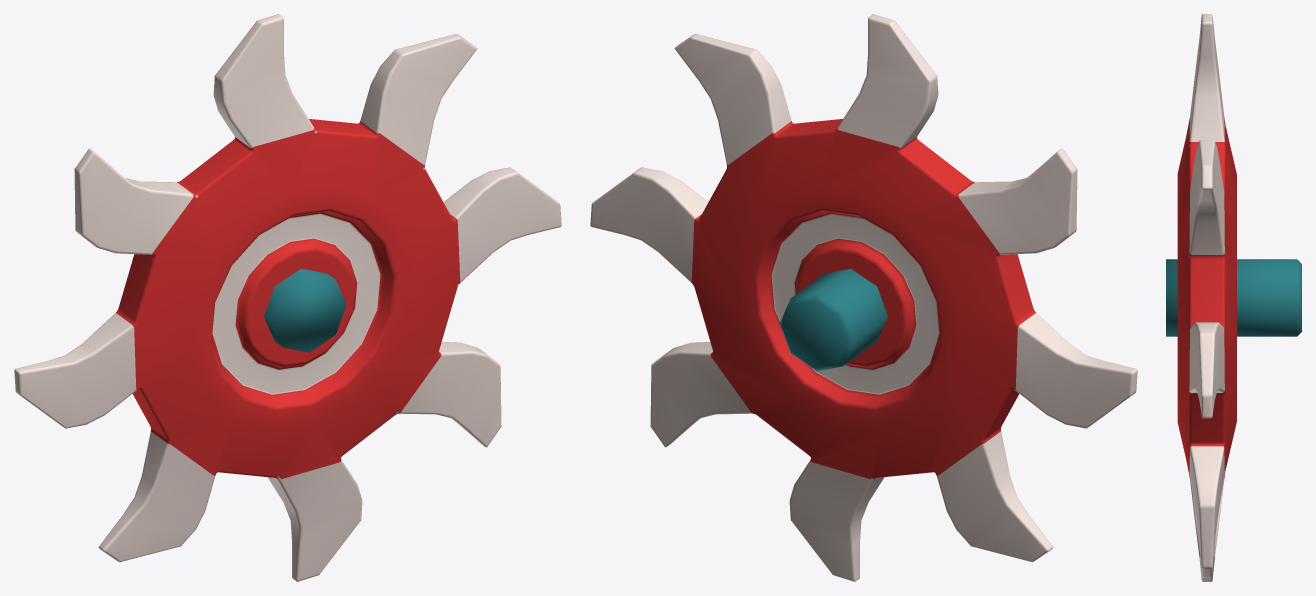
The model's file is Cutter2.fbx.
3 renders of one model, left to right at view 1: azimuth 30°, elevation 25°; view 2: azimuth 150°, elevation 25°; view 3: azimuth 270°, elevation 25°, orthographic. The views are drawn at different scales.
Visible parts, largest first — view 1: Cylinder.008, Cylinder.009; view 2: Cylinder.008, Cylinder.009; view 3: Cylinder.008, Cylinder.009.
Boxes of the visible parts, x1,y1,x2,y2 form: Cylinder.008: [14, 14, 561, 581]; Cylinder.009: [264, 268, 346, 352]; Cylinder.008: [590, 14, 1137, 581]; Cylinder.009: [780, 268, 887, 371]; Cylinder.008: [1177, 14, 1236, 581]; Cylinder.009: [1166, 259, 1301, 336].
Bounding box in the file's own units: 3.33 × 3.33 × 0.7545.
